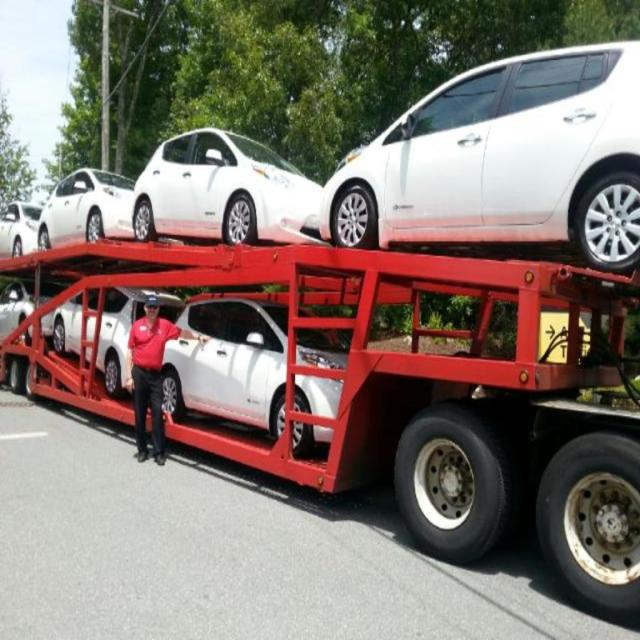car: (160, 291, 348, 453), (125, 129, 326, 240), (47, 288, 182, 392), (30, 164, 130, 238), (0, 282, 55, 342), (0, 204, 42, 256)
